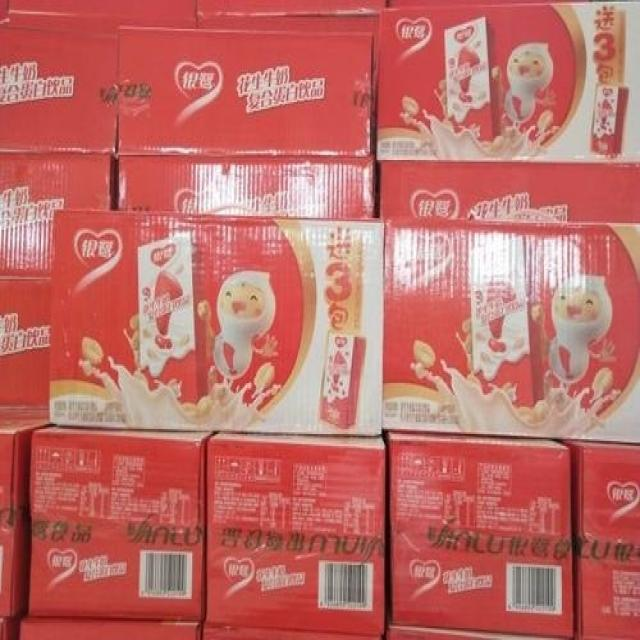box: (49, 209, 385, 436), (383, 220, 640, 444), (376, 0, 640, 163), (385, 432, 575, 640), (28, 424, 215, 621), (206, 432, 385, 635), (118, 27, 375, 157), (118, 155, 376, 218), (380, 162, 640, 223), (0, 26, 118, 153), (564, 443, 640, 638), (0, 151, 115, 279), (0, 420, 51, 620), (0, 279, 50, 419), (20, 618, 202, 640)
